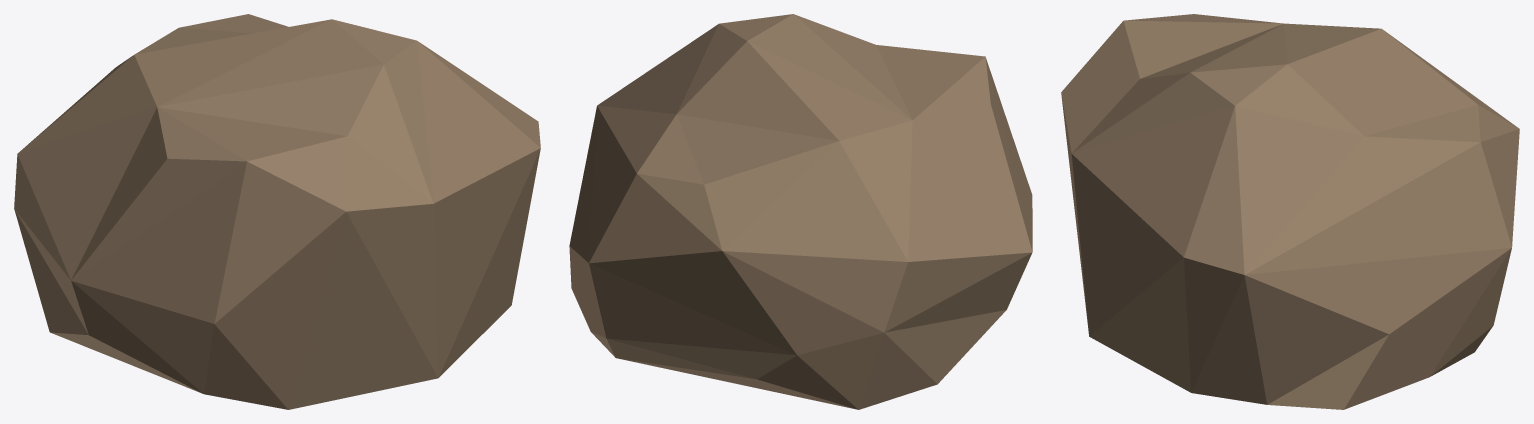
Rendered from rock19.fbx.
The picture shows the model from 3 angles, left to right: view 1: azimuth 30°, elevation 25°; view 2: azimuth 150°, elevation 25°; view 3: azimuth 270°, elevation 25°; orthographic projection. The views are drawn at different scales.
Parts seen in each view (by area): view 1: Rock19; view 2: Rock19; view 3: Rock19.
Boxes of the visible parts, <box> form: Rock19: <box>14,14,540,409</box>; Rock19: <box>569,14,1032,409</box>; Rock19: <box>1061,14,1519,409</box>.
Bounding box in the file's own units: 3.16 × 1.83 × 2.8.
